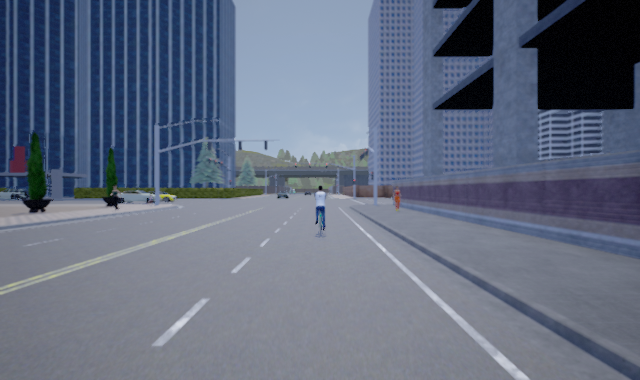bike: (314, 185, 326, 237)
pedestrian: (391, 184, 402, 211)
vehicle: (109, 190, 160, 205), (133, 191, 176, 203), (276, 190, 289, 199)
